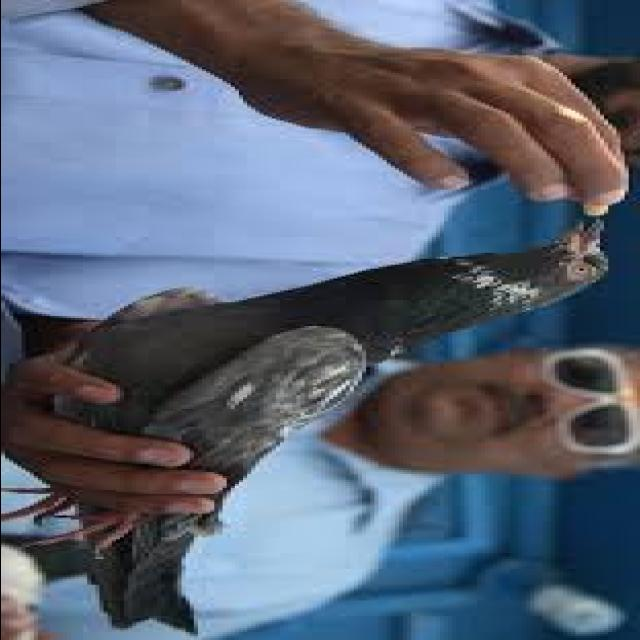pigeon: (52, 218, 628, 610)
